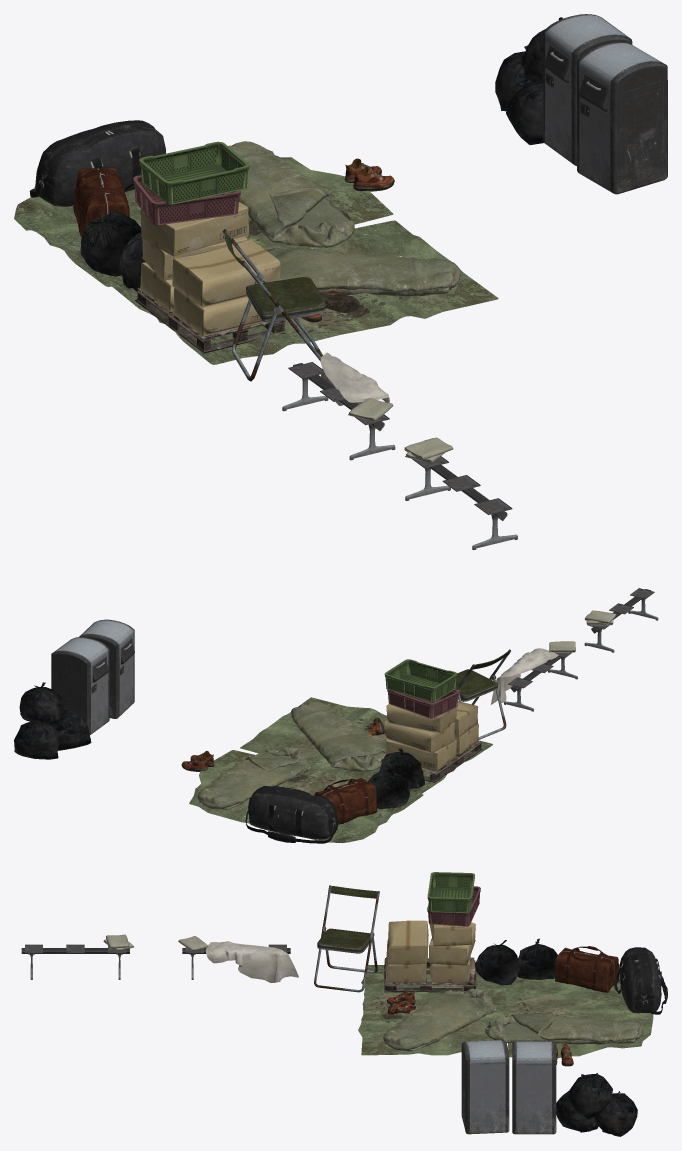
File: sm39_159_evacueeset02a.fbx
3 renders of one model, top to bottom at view 1: azimuth 30°, elevation 25°; view 2: azimuth 150°, elevation 25°; view 3: azimuth 270°, elevation 25°, orthographic. The views are drawn at different scales.
Parts seen in each view (by area): view 1: LOD_1_Group_2_Sub_1__sm30_096_TrashBoxB01A_A_Mat, LOD_1_Group_0_Sub_6__sm30_081_ShowerMat01A_A_Mat, LOD_1_Group_0_Sub_11__sm32_188_SleepingBag01A_A_Mat, LOD_1_Group_0_Sub_1__sm36_004_Cardboard03A_A_Mat, LOD_1_Group_1_Sub_2__sm20_002_GarbageBags01A_A_Mat, LOD_1_Group_0_Sub_3__sm32_109_Travelbag01A_A_Mat, LOD_1_Group_4_Sub_1__sm30_133_PlasticTray01A_B_Mat, LOD_1_Group_0_Sub_4__sm30_056_FoldingChair01A_A_Mat, LOD_1_Group_0_Sub_10__sm30_127_BenchB01A_A_Mat, LOD_1_Group_1_Sub_3__sm32_045_BostonBag01A_A_Mat, LOD_1_Group_3_Sub_1__sm30_133_PlasticTray01A_B_Mat, LOD_1_Group_0_Sub_5__sm26_003_Palette01A_A_Mat (+4 smaller); view 2: LOD_1_Group_0_Sub_6__sm30_081_ShowerMat01A_A_Mat, LOD_1_Group_0_Sub_11__sm32_188_SleepingBag01A_A_Mat, LOD_1_Group_2_Sub_1__sm30_096_TrashBoxB01A_A_Mat, LOD_1_Group_1_Sub_2__sm20_002_GarbageBags01A_A_Mat, LOD_1_Group_0_Sub_1__sm36_004_Cardboard03A_A_Mat, LOD_1_Group_0_Sub_3__sm32_109_Travelbag01A_A_Mat, LOD_1_Group_4_Sub_1__sm30_133_PlasticTray01A_B_Mat, LOD_1_Group_0_Sub_10__sm30_127_BenchB01A_A_Mat, LOD_1_Group_1_Sub_3__sm32_045_BostonBag01A_A_Mat, LOD_1_Group_0_Sub_4__sm30_056_FoldingChair01A_A_Mat, LOD_1_Group_3_Sub_1__sm30_133_PlasticTray01A_B_Mat, LOD_1_Group_0_Sub_8__sm36_035_TableCloth03B_A_Mat (+4 smaller); view 3: LOD_1_Group_0_Sub_6__sm30_081_ShowerMat01A_A_Mat, LOD_1_Group_2_Sub_1__sm30_096_TrashBoxB01A_A_Mat, LOD_1_Group_0_Sub_11__sm32_188_SleepingBag01A_A_Mat, LOD_1_Group_1_Sub_2__sm20_002_GarbageBags01A_A_Mat, LOD_1_Group_0_Sub_1__sm36_004_Cardboard03A_A_Mat, LOD_1_Group_0_Sub_3__sm32_109_Travelbag01A_A_Mat, LOD_1_Group_0_Sub_4__sm30_056_FoldingChair01A_A_Mat, LOD_1_Group_0_Sub_8__sm36_035_TableCloth03B_A_Mat, LOD_1_Group_1_Sub_3__sm32_045_BostonBag01A_A_Mat, LOD_1_Group_4_Sub_1__sm30_133_PlasticTray01A_B_Mat, LOD_1_Group_0_Sub_10__sm30_127_BenchB01A_A_Mat, LOD_1_Group_0_Sub_5__sm26_003_Palette01A_A_Mat (+3 smaller).
Part boxes in pixels (<box>): LOD_1_Group_2_Sub_1__sm30_096_TrashBoxB01A_A_Mat: <box>543,14,667,194</box>; LOD_1_Group_0_Sub_6__sm30_081_ShowerMat01A_A_Mat: <box>14,157,498,364</box>; LOD_1_Group_0_Sub_11__sm32_188_SleepingBag01A_A_Mat: <box>228,141,460,296</box>; LOD_1_Group_0_Sub_1__sm36_004_Cardboard03A_A_Mat: <box>140,202,280,336</box>; LOD_1_Group_1_Sub_2__sm20_002_GarbageBags01A_A_Mat: <box>80,17,562,291</box>; LOD_1_Group_0_Sub_3__sm32_109_Travelbag01A_A_Mat: <box>29,120,165,206</box>; LOD_1_Group_4_Sub_1__sm30_133_PlasticTray01A_B_Mat: <box>139,141,249,204</box>; LOD_1_Group_0_Sub_4__sm30_056_FoldingChair01A_A_Mat: <box>222,229,325,381</box>; LOD_1_Group_0_Sub_10__sm30_127_BenchB01A_A_Mat: <box>282,362,517,549</box>; LOD_1_Group_1_Sub_3__sm32_045_BostonBag01A_A_Mat: <box>73,167,129,236</box>; LOD_1_Group_3_Sub_1__sm30_133_PlasticTray01A_B_Mat: <box>133,175,240,225</box>; LOD_1_Group_0_Sub_5__sm26_003_Palette01A_A_Mat: <box>135,288,286,353</box>; LOD_1_Group_0_Sub_6__sm30_081_ShowerMat01A_A_Mat: <box>189,697,492,843</box>; LOD_1_Group_0_Sub_11__sm32_188_SleepingBag01A_A_Mat: <box>197,701,385,809</box>; LOD_1_Group_2_Sub_1__sm30_096_TrashBoxB01A_A_Mat: <box>51,619,134,734</box>; LOD_1_Group_1_Sub_2__sm20_002_GarbageBags01A_A_Mat: <box>14,682,424,809</box>; LOD_1_Group_0_Sub_1__sm36_004_Cardboard03A_A_Mat: <box>384,701,478,770</box>; LOD_1_Group_0_Sub_3__sm32_109_Travelbag01A_A_Mat: <box>245,786,338,843</box>; LOD_1_Group_4_Sub_1__sm30_133_PlasticTray01A_B_Mat: <box>384,659,457,701</box>; LOD_1_Group_0_Sub_10__sm30_127_BenchB01A_A_Mat: <box>504,588,658,711</box>; LOD_1_Group_1_Sub_3__sm32_045_BostonBag01A_A_Mat: <box>314,778,377,824</box>; LOD_1_Group_0_Sub_4__sm30_056_FoldingChair01A_A_Mat: <box>455,649,510,739</box>; LOD_1_Group_3_Sub_1__sm30_133_PlasticTray01A_B_Mat: <box>387,689,459,718</box>; LOD_1_Group_0_Sub_8__sm36_035_TableCloth03B_A_Mat: <box>490,648,558,704</box>; LOD_1_Group_0_Sub_6__sm30_081_ShowerMat01A_A_Mat: <box>358,964,653,1058</box>; LOD_1_Group_2_Sub_1__sm30_096_TrashBoxB01A_A_Mat: <box>461,1040,556,1134</box>; LOD_1_Group_0_Sub_11__sm32_188_SleepingBag01A_A_Mat: <box>383,988,642,1051</box>; LOD_1_Group_1_Sub_2__sm20_002_GarbageBags01A_A_Mat: <box>475,938,637,1136</box>; LOD_1_Group_0_Sub_1__sm36_004_Cardboard03A_A_Mat: <box>386,904,475,982</box>; LOD_1_Group_0_Sub_3__sm32_109_Travelbag01A_A_Mat: <box>614,947,667,1014</box>; LOD_1_Group_0_Sub_4__sm30_056_FoldingChair01A_A_Mat: <box>314,885,379,992</box>; LOD_1_Group_0_Sub_8__sm36_035_TableCloth03B_A_Mat: <box>205,941,298,982</box>; LOD_1_Group_1_Sub_3__sm32_045_BostonBag01A_A_Mat: <box>555,946,619,992</box>; LOD_1_Group_4_Sub_1__sm30_133_PlasticTray01A_B_Mat: <box>427,872,474,912</box>; LOD_1_Group_0_Sub_10__sm30_127_BenchB01A_A_Mat: <box>21,944,290,979</box>; LOD_1_Group_0_Sub_5__sm26_003_Palette01A_A_Mat: <box>384,957,476,992</box>.
Size of the model in its own units: 5.19 by 1.35 by 8.13.
